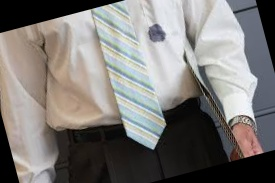ink: (147, 22, 166, 42)
